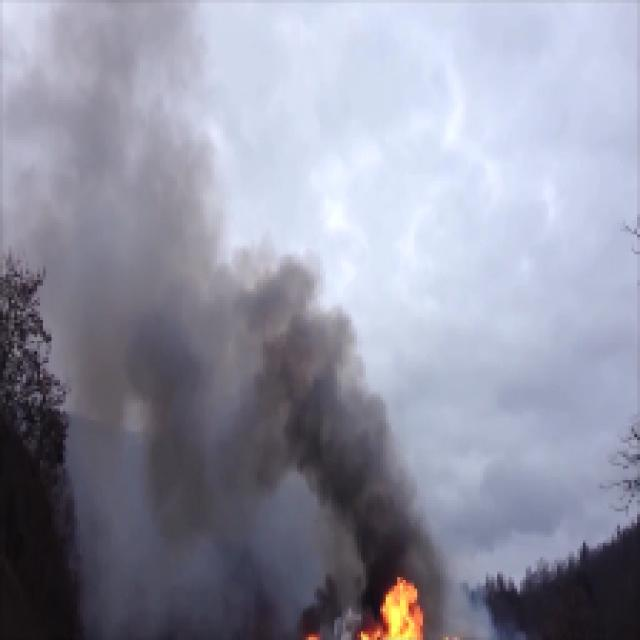fire: (377, 574, 417, 640)
smoke: (326, 408, 417, 562), (248, 299, 323, 454)
